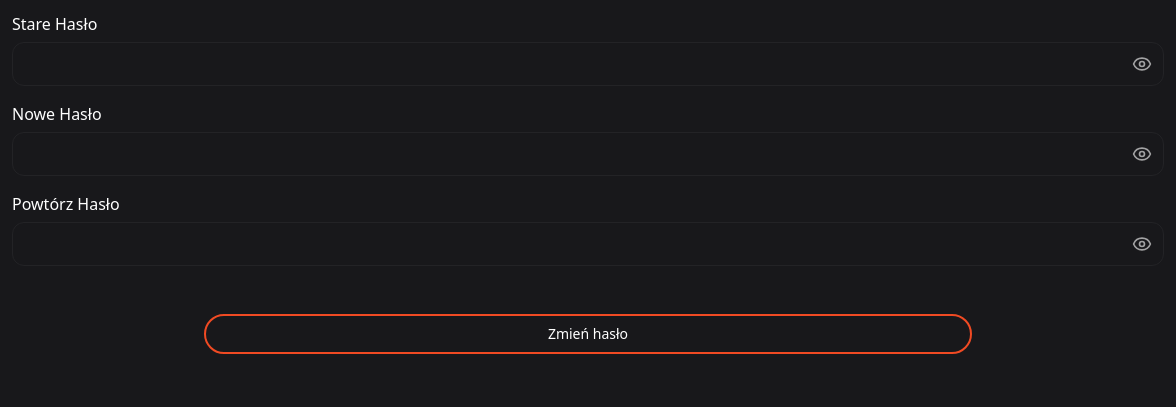
Test: ChangePasswordForm › shows a validation error when the old password is missing
In the password field labelled "Nowe Hasło": (588, 154) [12,132,1164,176], type "Trening123!"
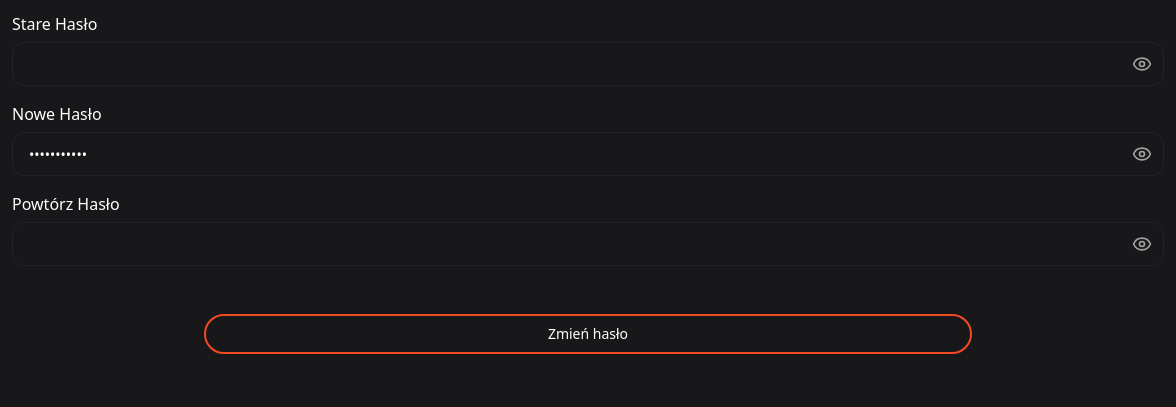
In the password field labelled "Powtórz Hasło": (588, 244) [12,222,1164,266], type "Trening123!"
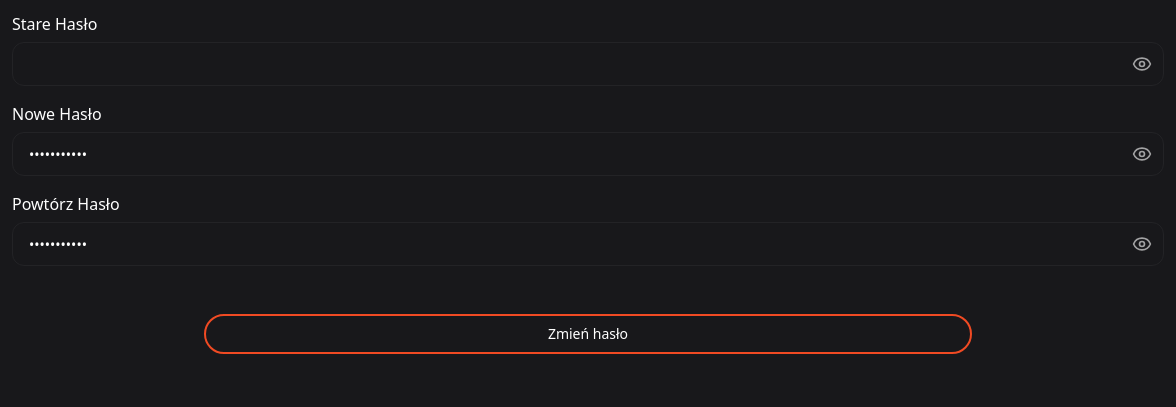
Click the button "Zmień hasło": (588, 334) [204,314,972,354]
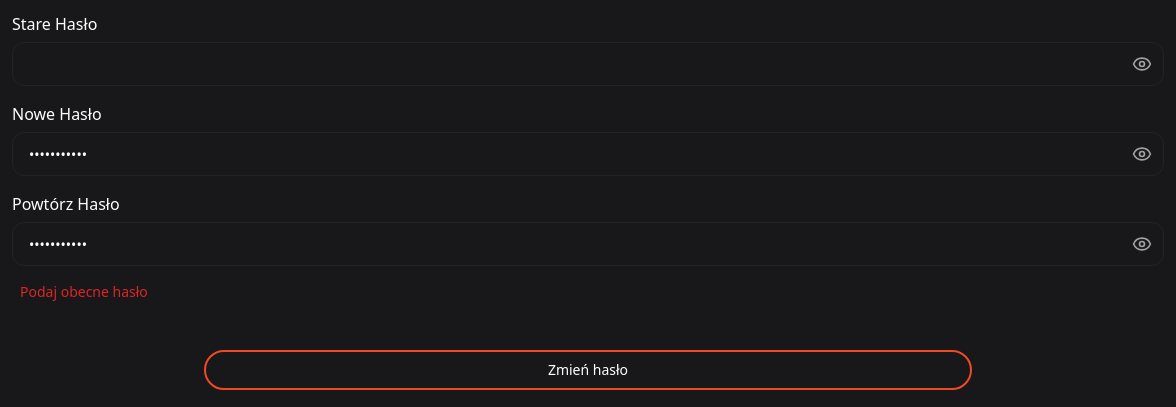
Expected: the text "Podaj obecne hasło" is shown, [20,282,148,301]
